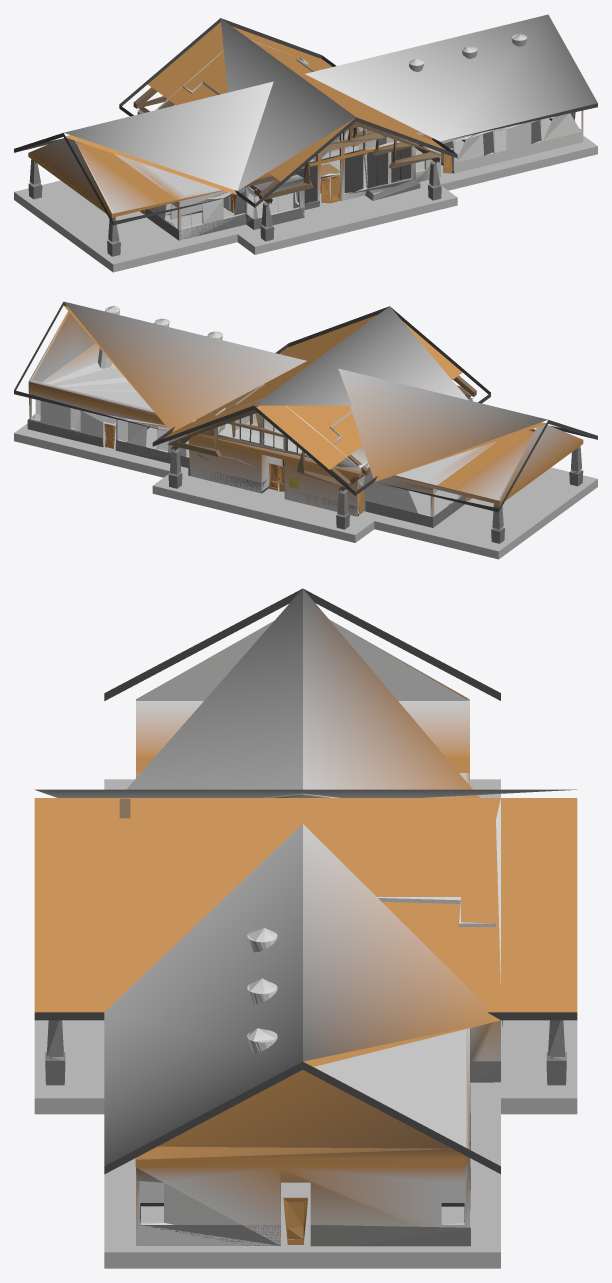
File: terminal.lod0.glb
3 renders of one model, top to bottom at view 1: azimuth 30°, elevation 25°; view 2: azimuth 150°, elevation 25°; view 3: azimuth 270°, elevation 25°, orthographic. The views are drawn at different scales.
Visible parts, largest first — view 1: Mesh1_Metal_Aluminum_Anodized_0; view 2: Mesh1_Metal_Aluminum_Anodized_0; view 3: Mesh1_Metal_Aluminum_Anodized_0.
Boxes of the visible parts, bbox=[...] form: Mesh1_Metal_Aluminum_Anodized_0: bbox=[14, 14, 597, 272]; Mesh1_Metal_Aluminum_Anodized_0: bbox=[14, 301, 597, 559]; Mesh1_Metal_Aluminum_Anodized_0: bbox=[34, 588, 577, 1268].
Size of the model in its own units: 40 by 8.9 by 19.4.
